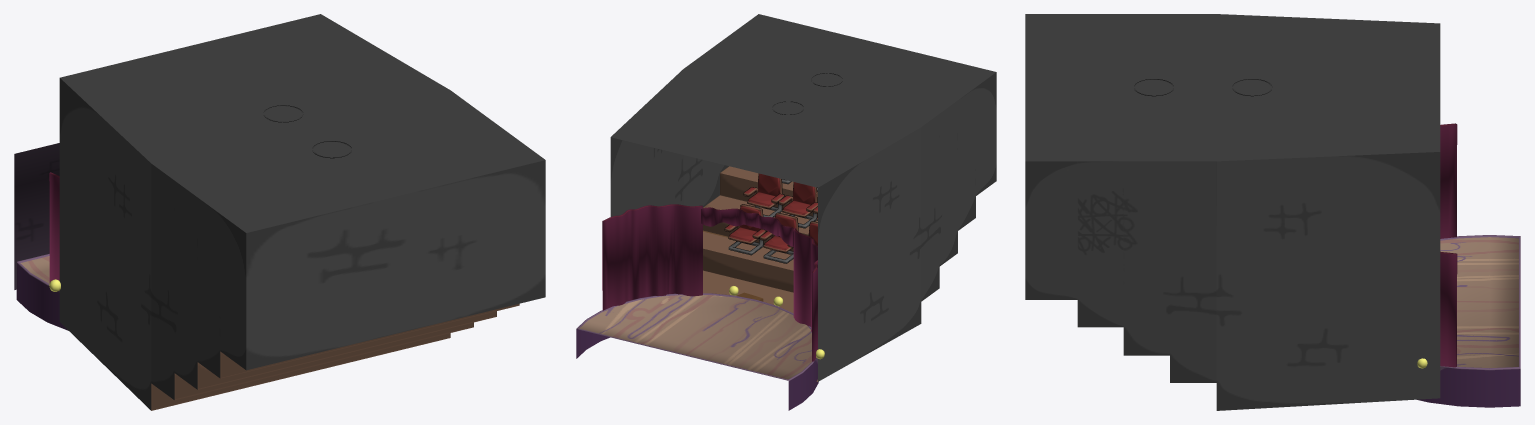
Rendered from FNFWeek1.fbx.
3 views of the same model, side by side, from view 1: azimuth 30°, elevation 25°; view 2: azimuth 150°, elevation 25°; view 3: azimuth 270°, elevation 25° (orthographic). The views are drawn at different scales.
Visible parts, largest first — view 1: Stage; view 2: Stage; view 3: Stage.
Part boxes in pixels (bbox=[...]): Stage: bbox=[14, 14, 545, 410]; Stage: bbox=[576, 14, 996, 410]; Stage: bbox=[1025, 14, 1520, 410].
Bounding box in the file's own units: 1155 × 931 × 1640.
1 material, 1 textured.
